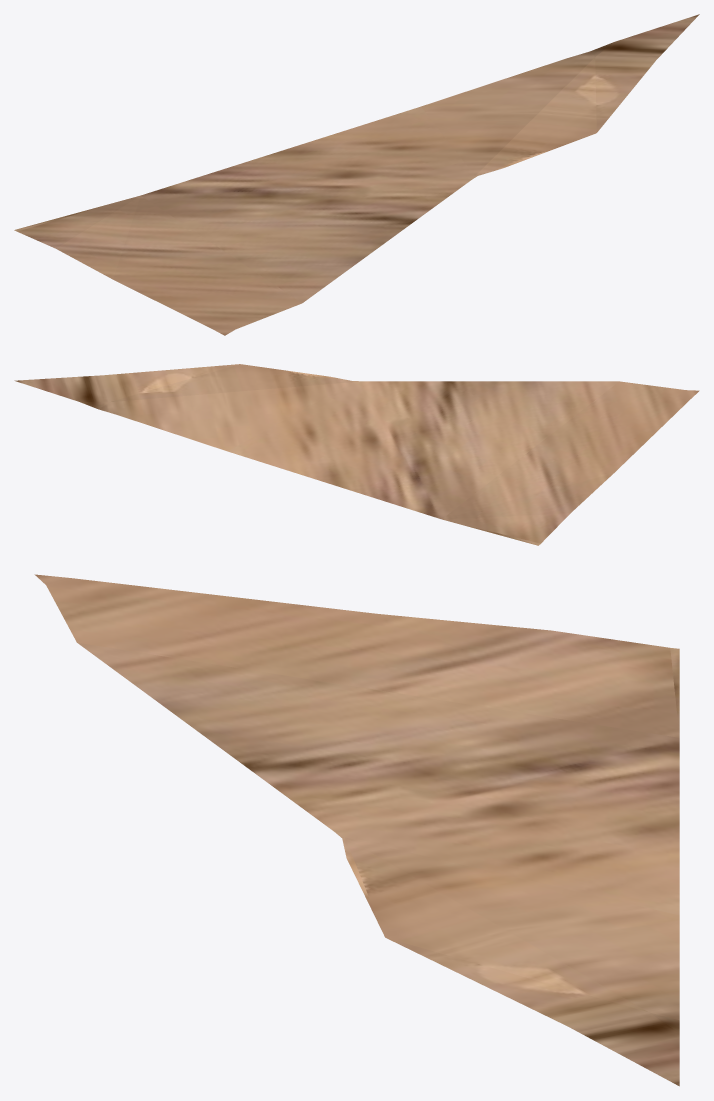
3 renders of one model, top to bottom at view 1: azimuth 30°, elevation 25°; view 2: azimuth 150°, elevation 25°; view 3: azimuth 270°, elevation 25°, orthographic. The views are drawn at different scales.
Size of the model in its own units: 1.14 by 0.0773 by 0.6084.
Materials: 1 (1 with a texture image).
